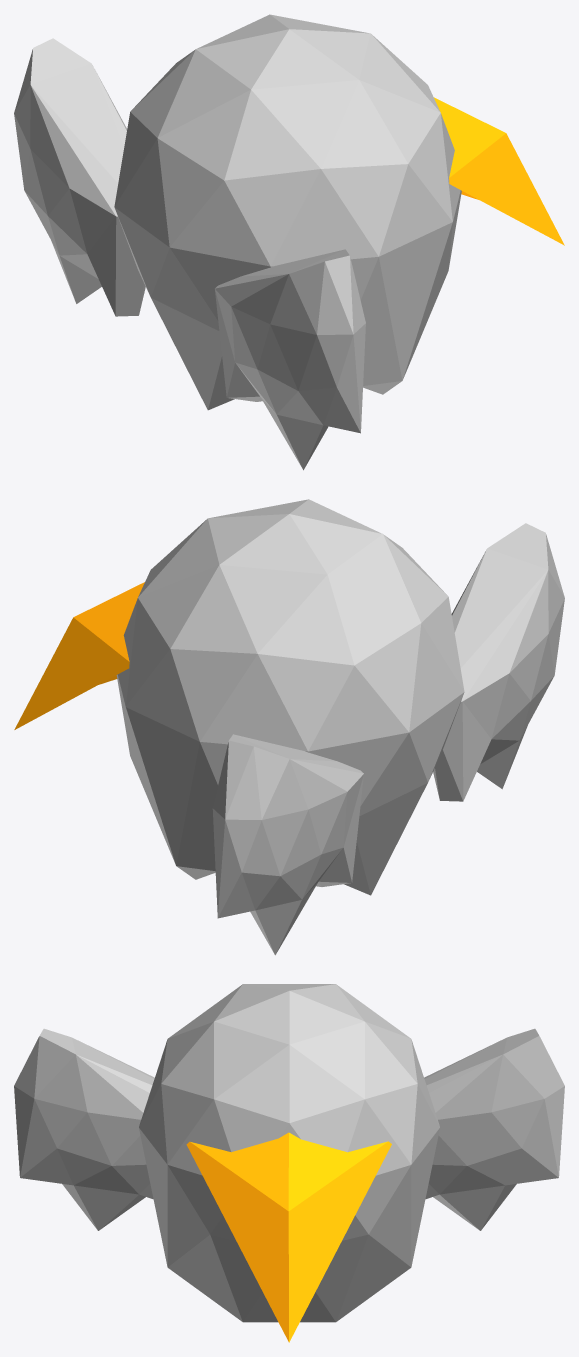
File: bird_head_pickup.fbx
3 renders of one model, top to bottom at view 1: azimuth 30°, elevation 25°; view 2: azimuth 150°, elevation 25°; view 3: azimuth 270°, elevation 25°, orthographic. The views are drawn at different scales.
Parts seen in each view (by area): view 1: Icosphere, Cube; view 2: Icosphere, Cube; view 3: Icosphere, Cube.
Part boxes in pixels (x1,y1,x2,y2): Icosphere: (14, 14, 461, 470); Cube: (434, 97, 564, 245); Icosphere: (116, 499, 564, 955); Cube: (14, 582, 144, 729); Icosphere: (14, 984, 564, 1322); Cube: (186, 1132, 391, 1342).
Bounding box in the file's own units: 382 × 312 × 512.
